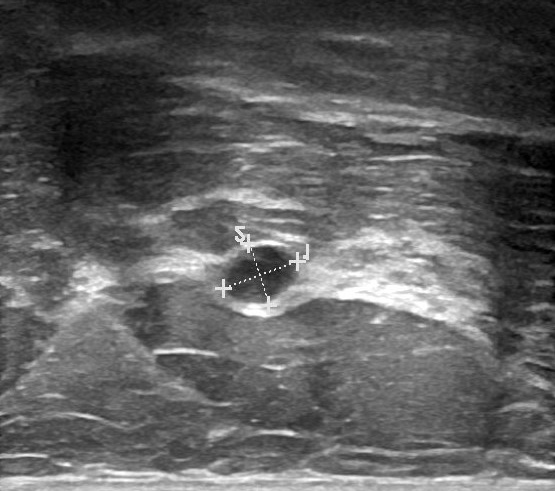Benign: (222, 240, 301, 309)
